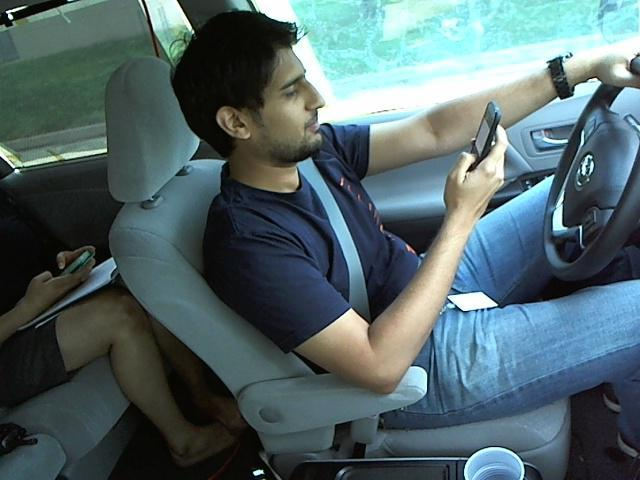PhoneUse: (454, 97, 510, 173)
